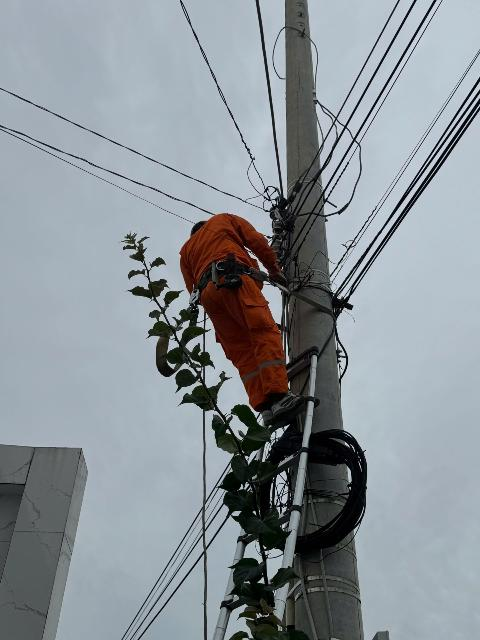gloves: (263, 261, 287, 291)
harness: (173, 251, 263, 290)
shoes: (253, 397, 303, 429), (267, 393, 332, 415)
